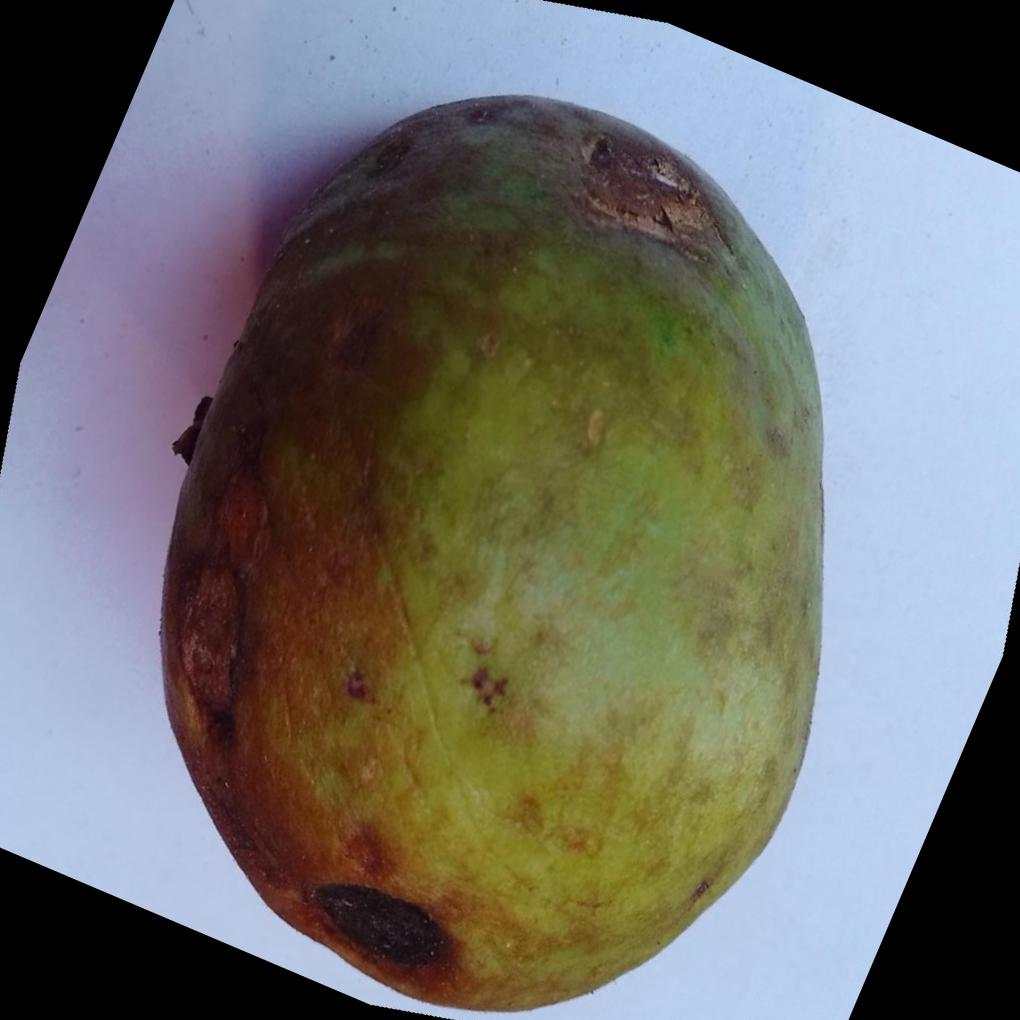FreshOrange: (153, 90, 822, 1019)
